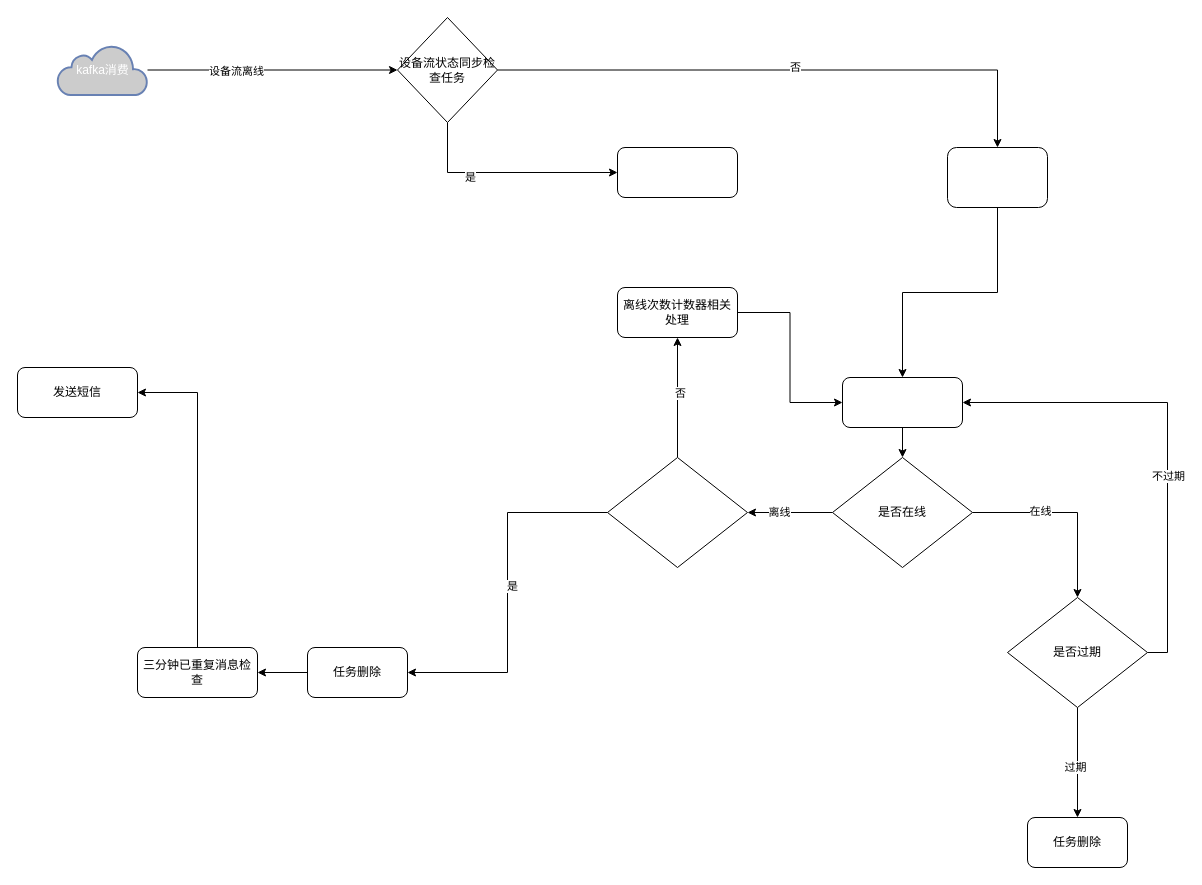
The diagram is 1202 pixels wide and 885 high, and some of its shapes have lost their labels. Here are the shapes that lost their labels. From the top down, the box of each, then its label:
(616, 146, 738, 198): 更新已有任务的过期时间
(946, 146, 1048, 208): 新建同步检查任务（开始时间，过期时间）
(842, 376, 962, 428): 一分钟周期检查状态
(606, 456, 748, 568): 是否连续三次离线
